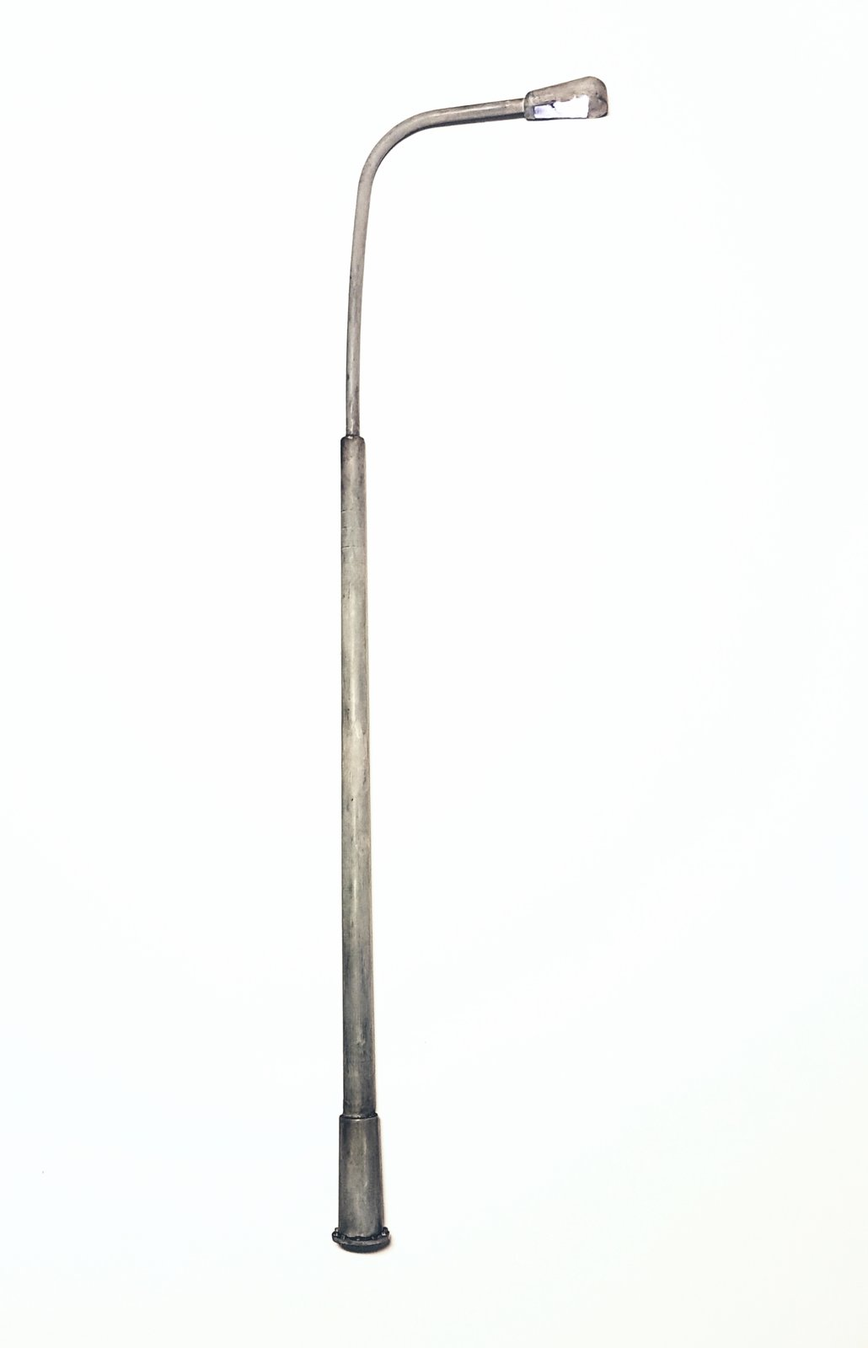Lamp: (324, 62, 627, 1255)
